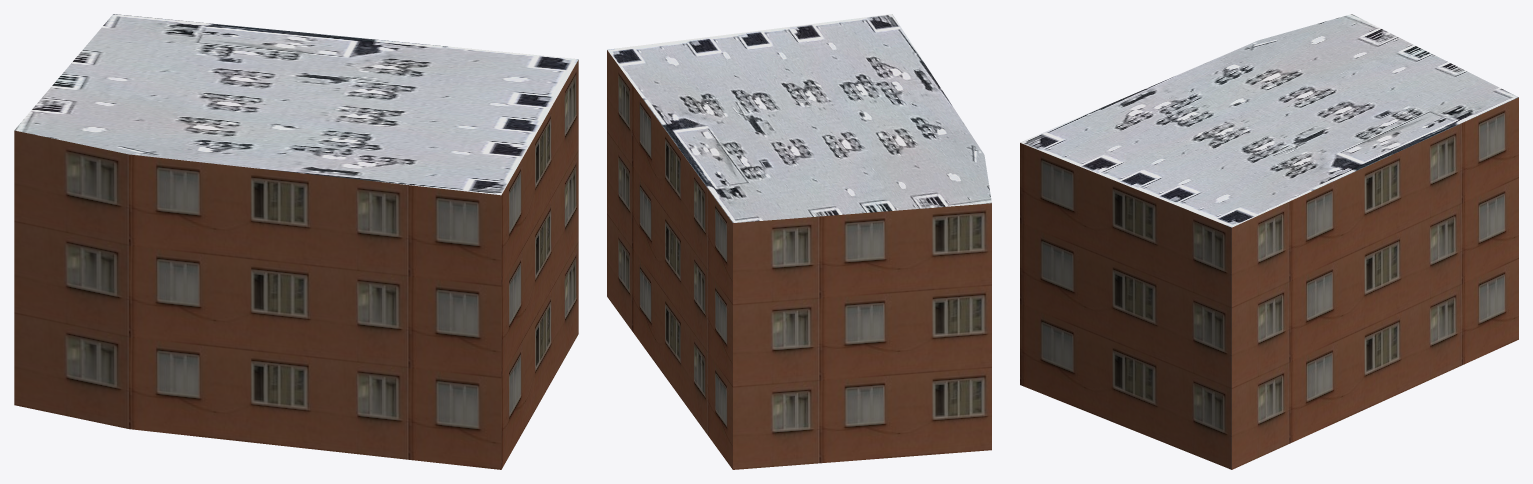
The model's file is ResTex__3935.fbx.
3 views of the same model, side by side, from view 1: azimuth 30°, elevation 25°; view 2: azimuth 150°, elevation 25°; view 3: azimuth 270°, elevation 25° (orthographic). The views are drawn at different scales.
Parts seen in each view (by area): view 1: CityEngineMaterial_20_m, CityEngineMaterial_m; view 2: CityEngineMaterial_20_m, CityEngineMaterial_m; view 3: CityEngineMaterial_20_m, CityEngineMaterial_m.
Part boxes in pixels (x1,y1,x2,y2): CityEngineMaterial_20_m: (14, 60, 578, 469); CityEngineMaterial_m: (14, 14, 578, 195); CityEngineMaterial_20_m: (607, 50, 991, 469); CityEngineMaterial_m: (607, 14, 991, 222); CityEngineMaterial_20_m: (1020, 97, 1518, 469); CityEngineMaterial_m: (1020, 14, 1518, 227).
Size of the model in its own units: 17.02 by 9 by 16.8.
Materials: 2 (2 with a texture image).
